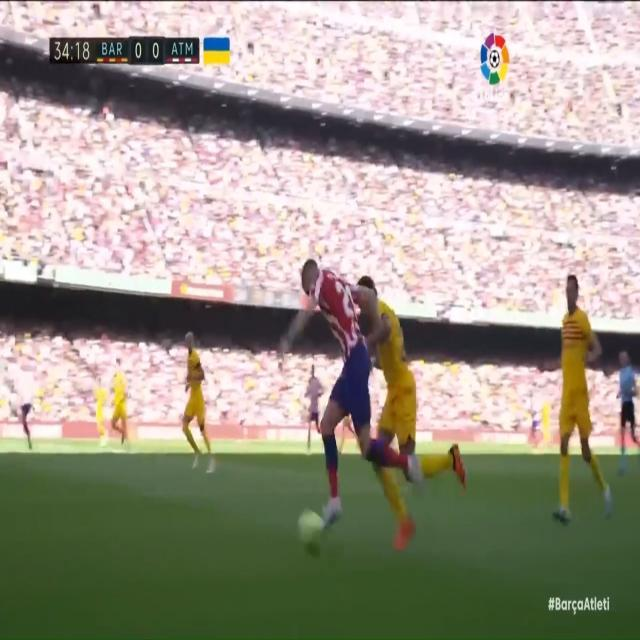ball: (292, 487, 324, 562)
player: (279, 244, 422, 521), (357, 266, 471, 562), (543, 266, 615, 532), (171, 319, 218, 486), (295, 338, 328, 456), (107, 342, 137, 463), (9, 344, 40, 456)
referee: (612, 327, 636, 484)
